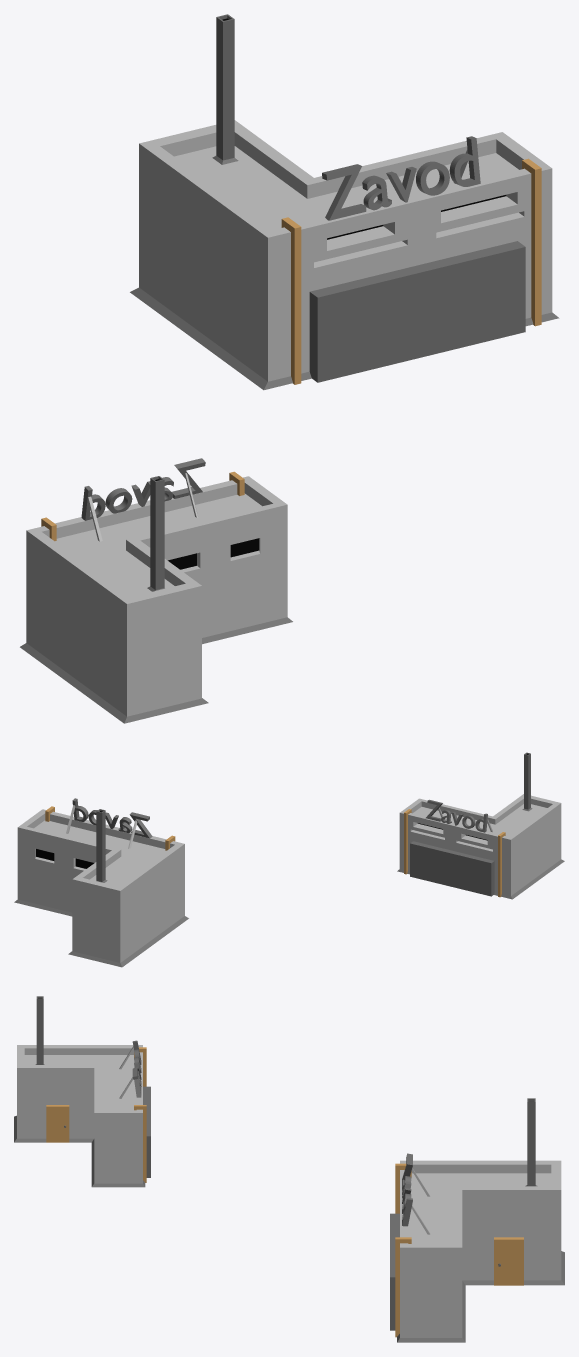
Rendered from zavod.glb.
3 views of the same model, one above another, from view 1: azimuth 30°, elevation 25°; view 2: azimuth 150°, elevation 25°; view 3: azimuth 270°, elevation 25° (orthographic). The views are drawn at different scales.
Parts seen in each view (by area): view 1: Завод; view 2: Завод; view 3: Завод.
Boxes of the visible parts, bbox=[...] form: Завод: bbox=[20, 14, 559, 723]; Завод: bbox=[14, 752, 564, 967]; Завод: bbox=[14, 996, 564, 1342].
Bounding box in the file's own units: 36.31 × 13.02 × 37.34.
